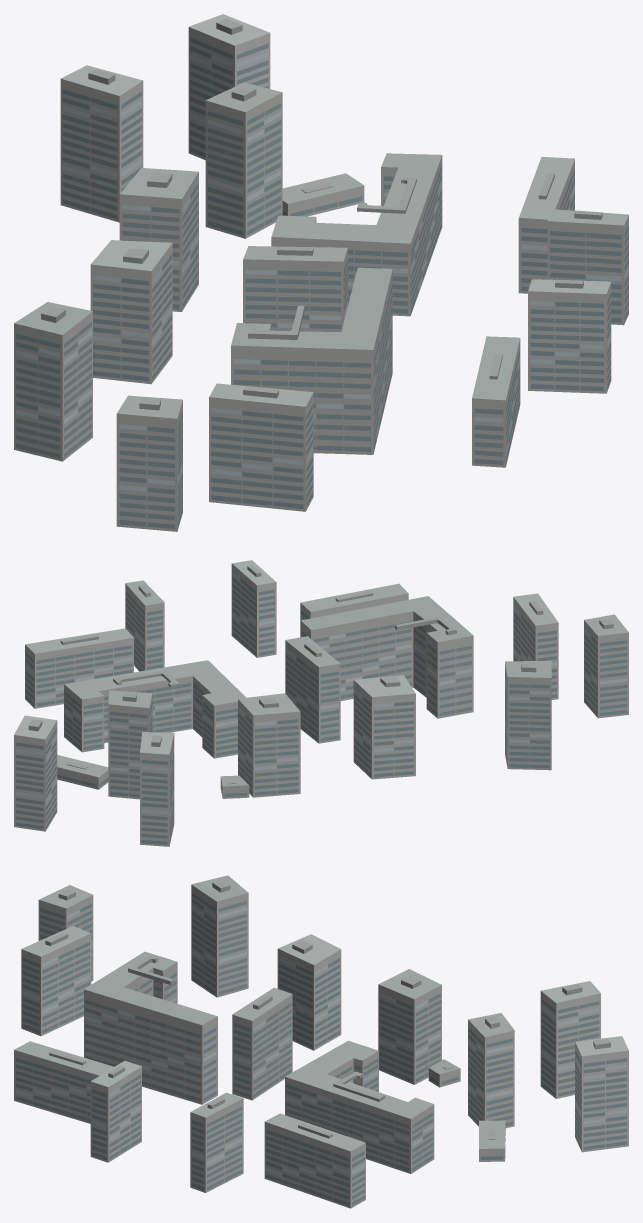
The model's file is apt-a41279915.glb.
The picture shows the model from 3 angles, top to bottom: view 1: azimuth 30°, elevation 25°; view 2: azimuth 150°, elevation 25°; view 3: azimuth 270°, elevation 25°; orthographic projection. The views are drawn at different scales.
Parts seen in each view (by area): view 1: apt-a41279915; view 2: apt-a41279915; view 3: apt-a41279915.
Boxes of the visible parts, x1,y1,x2,y2 form: apt-a41279915: (14, 14, 628, 531); apt-a41279915: (14, 560, 628, 846); apt-a41279915: (14, 875, 628, 1208).
Bounding box in the file's own units: 239 × 47 × 261.
